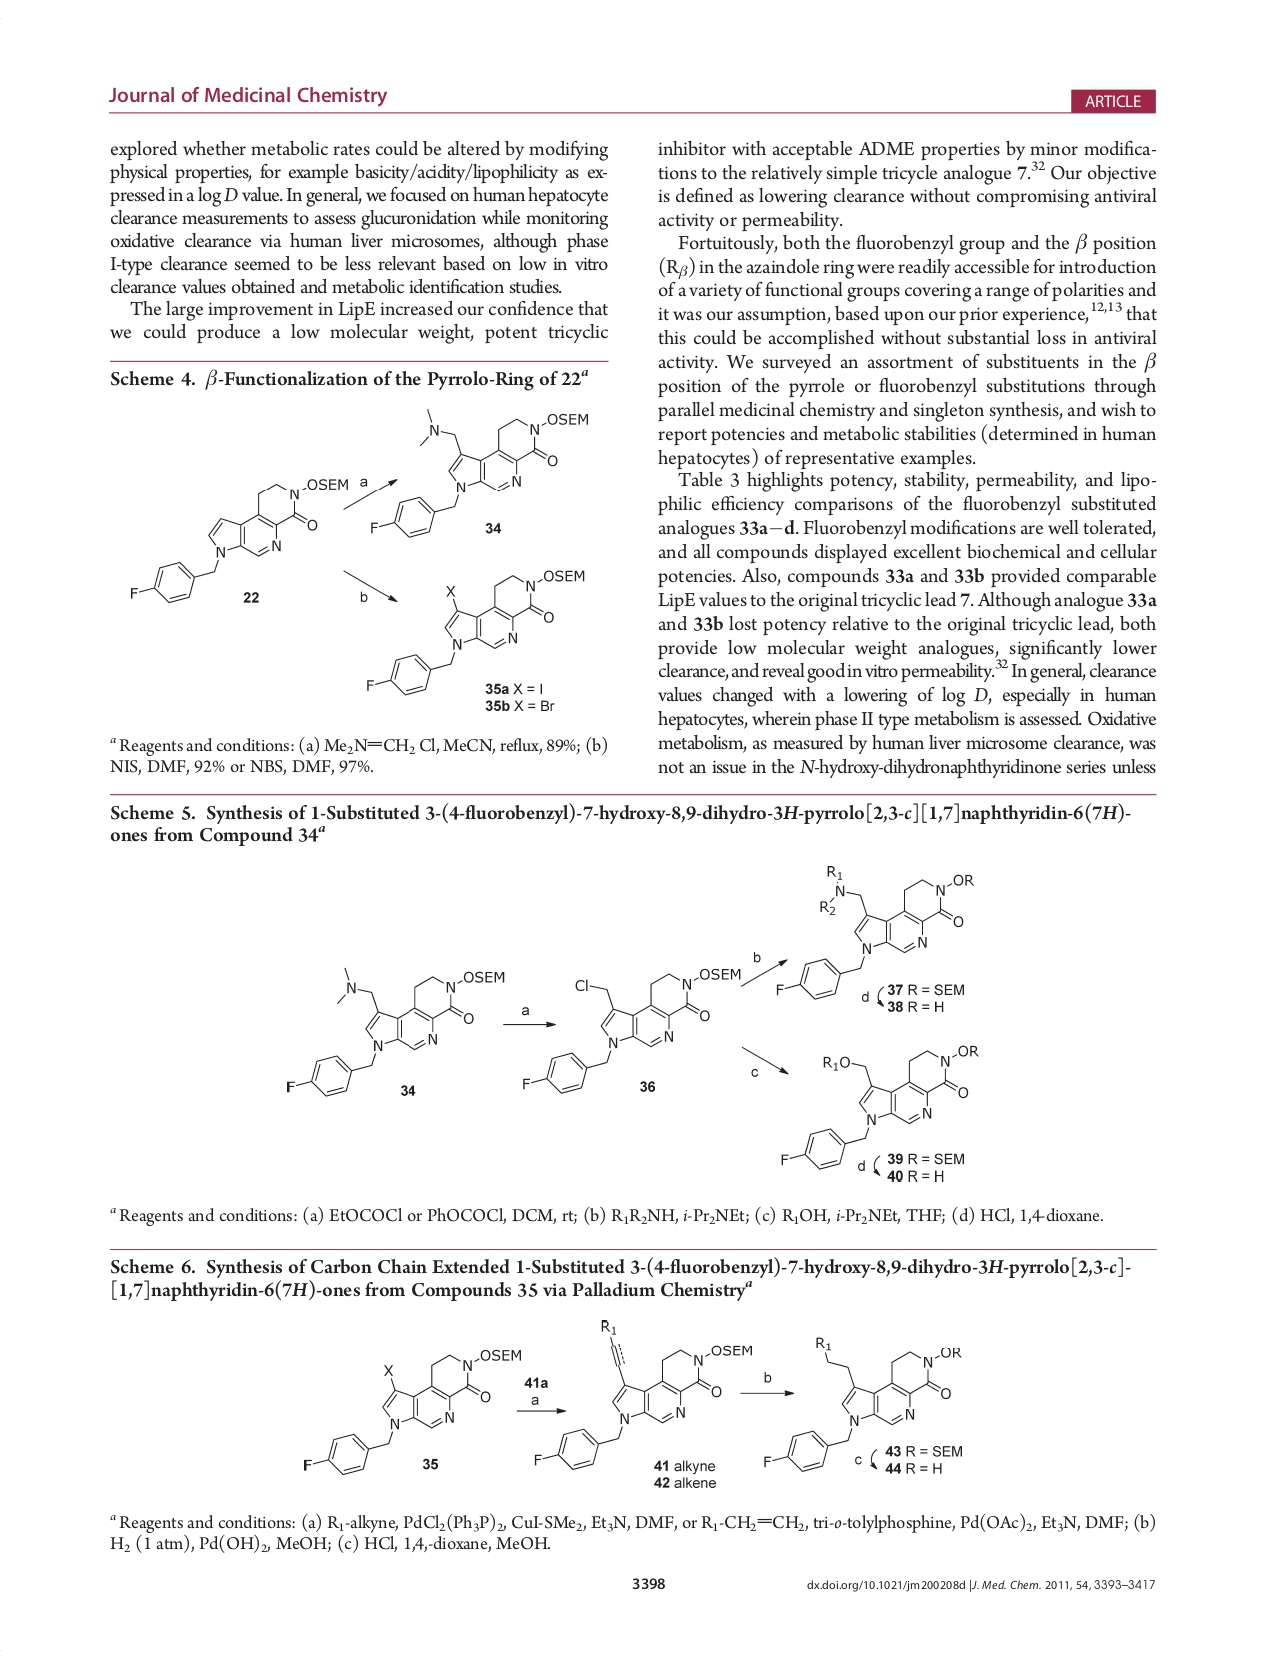exist_molecular: (531, 1317, 755, 1474), (283, 962, 508, 1101), (368, 404, 594, 541), (301, 1347, 524, 1479), (126, 476, 350, 606), (519, 967, 742, 1096), (363, 567, 584, 697), (773, 863, 979, 1001), (763, 1334, 965, 1474), (779, 1043, 979, 1173)
